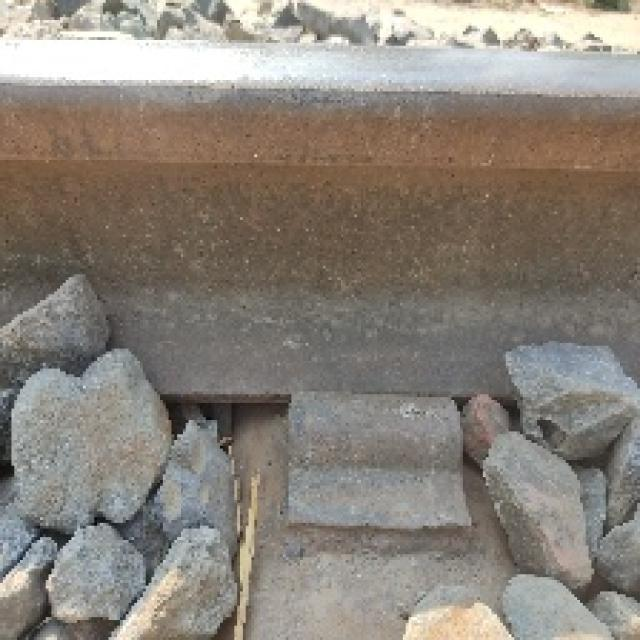Missing Fastener: (235, 377, 507, 580)
